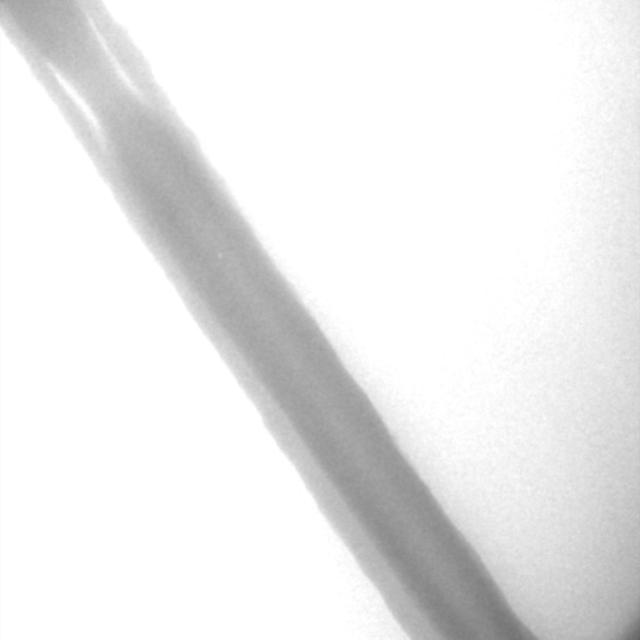unfused: (47, 12, 147, 141)
